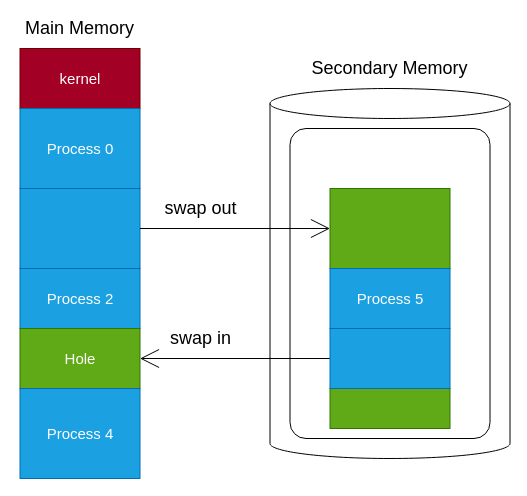
Some shapes in this 527 by 496 pixel diagram are drawn without their labels. The box of each missing label's shape, as (x1, y1, x2, y2) in pixels:
Process 1: (19, 188, 140, 268)
Process 3: (329, 328, 450, 388)
Swap Space: (289, 128, 490, 438)
